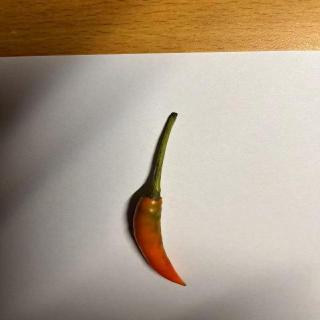Cabai Merah: (133, 112, 188, 287)
